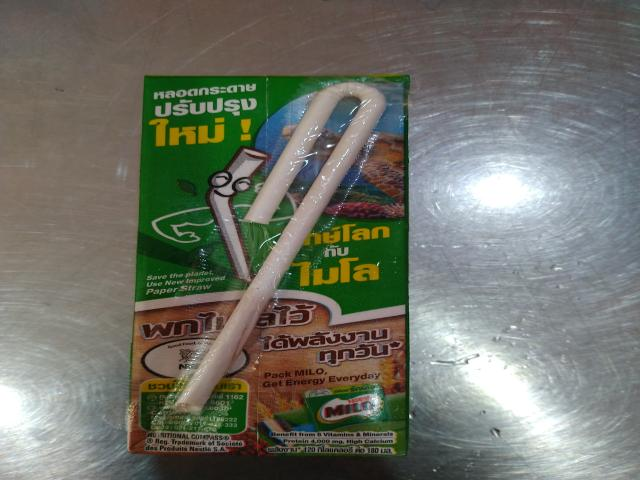drink_box: (115, 60, 468, 474)
